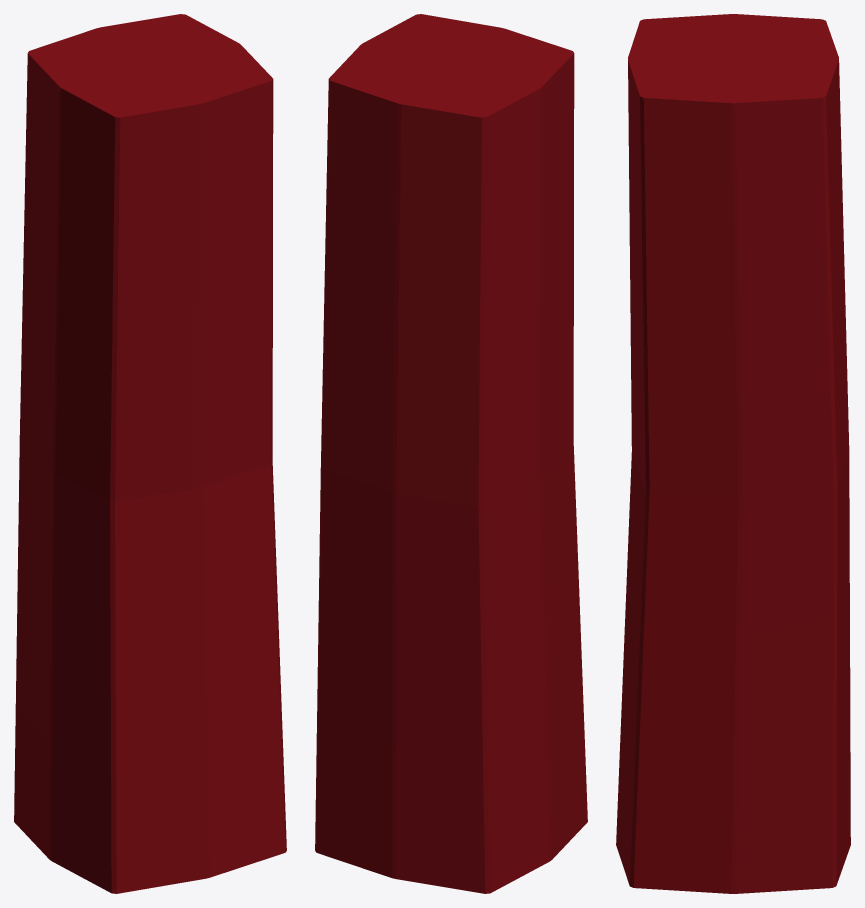
The model's file is SM_MH_01_Wood_Pillar_07.fbx.
The picture shows the model from 3 angles, left to right: view 1: azimuth 30°, elevation 25°; view 2: azimuth 150°, elevation 25°; view 3: azimuth 270°, elevation 25°; orthographic projection.
Parts seen in each view (by area): view 1: SM_MH_01_Wood_Pillar_07_LOD0; view 2: SM_MH_01_Wood_Pillar_07_LOD0; view 3: SM_MH_01_Wood_Pillar_07_LOD0.
Boxes of the visible parts, x1=… form: SM_MH_01_Wood_Pillar_07_LOD0: x1=14, y1=14, x2=286, y2=893; SM_MH_01_Wood_Pillar_07_LOD0: x1=315, y1=14, x2=587, y2=893; SM_MH_01_Wood_Pillar_07_LOD0: x1=616, y1=14, x2=850, y2=893.
Size of what is drawn, in the model's own units: 81.25 by 300 by 81.25.
